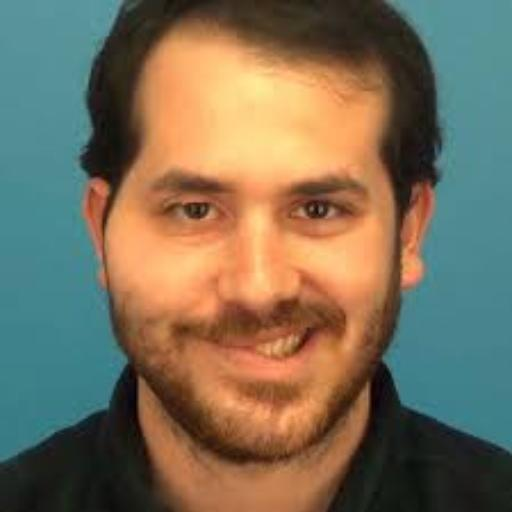left_eye: (286, 198, 358, 225)
left_lip_corner: (307, 317, 334, 341)
right_eye: (161, 199, 228, 226)
right_lip_corner: (168, 319, 211, 345)
